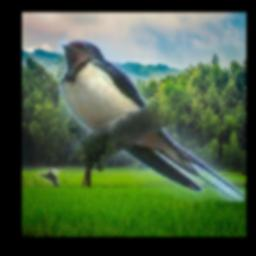Crow: (38, 167, 60, 188)
Swallow: (59, 40, 245, 202)
